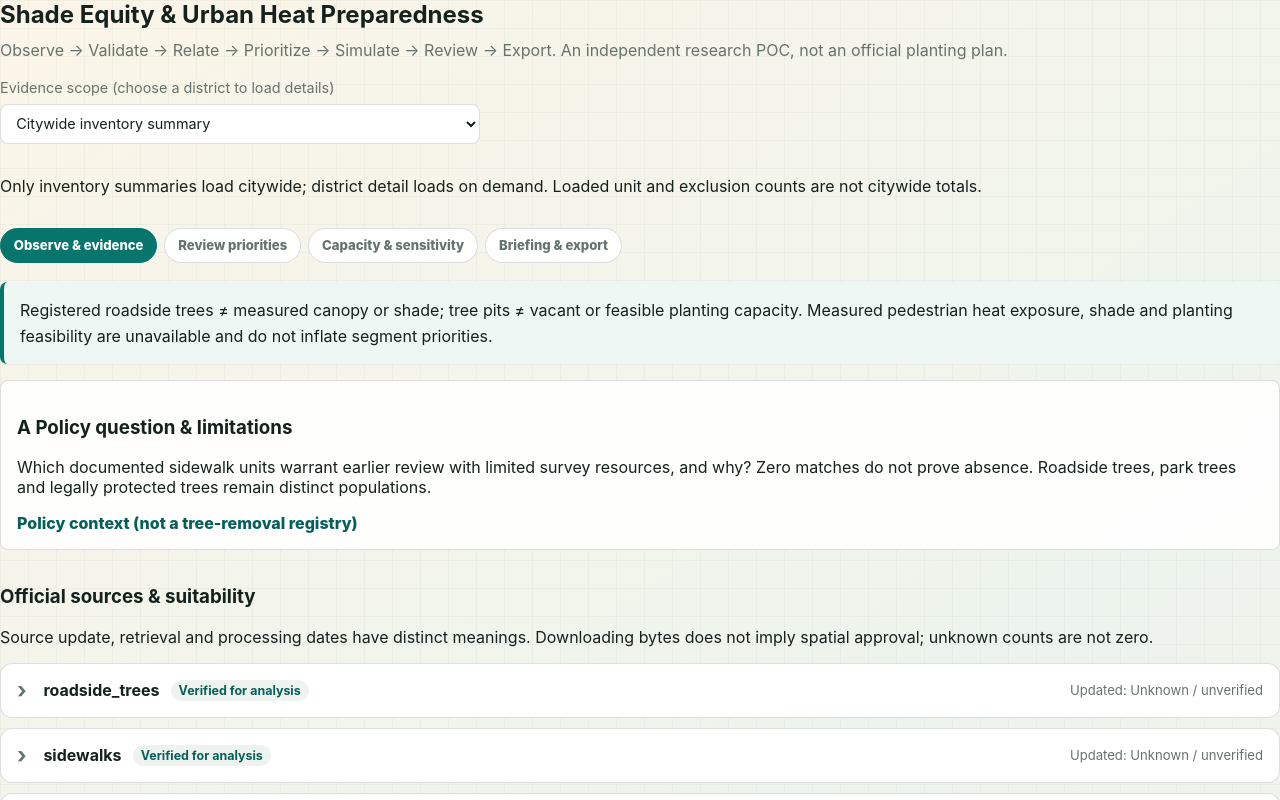
Scenario: shade equity dashboard › loads district details only after a district is chosen
The image size is (1280, 800).
Select "大安區" in the dropdown labelled "Evidence scope (choose a district to load details)". click: (240, 124)
box: [0,104,480,144]
(page scrolled)
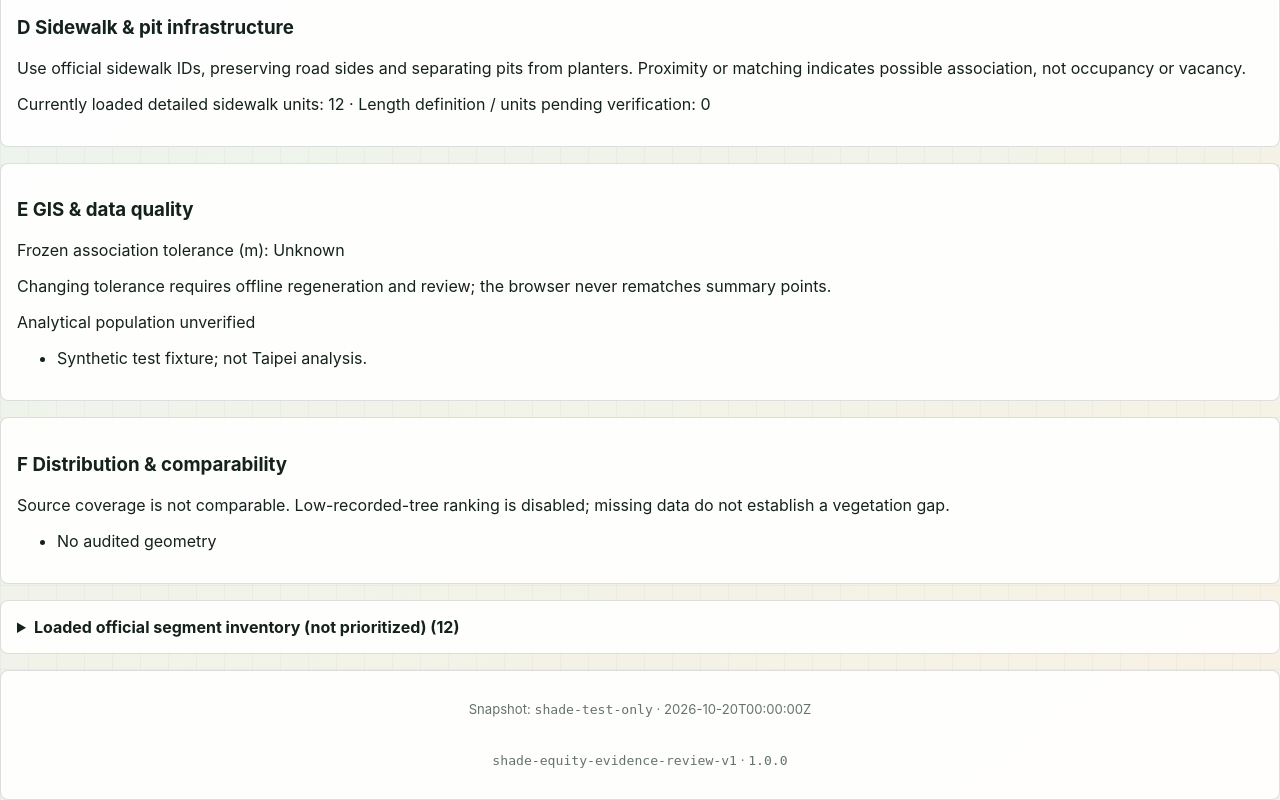
expect the heading "Loaded official segment inventory (not prioritized) (12)" is shown: met, box [34,617,459,637]
